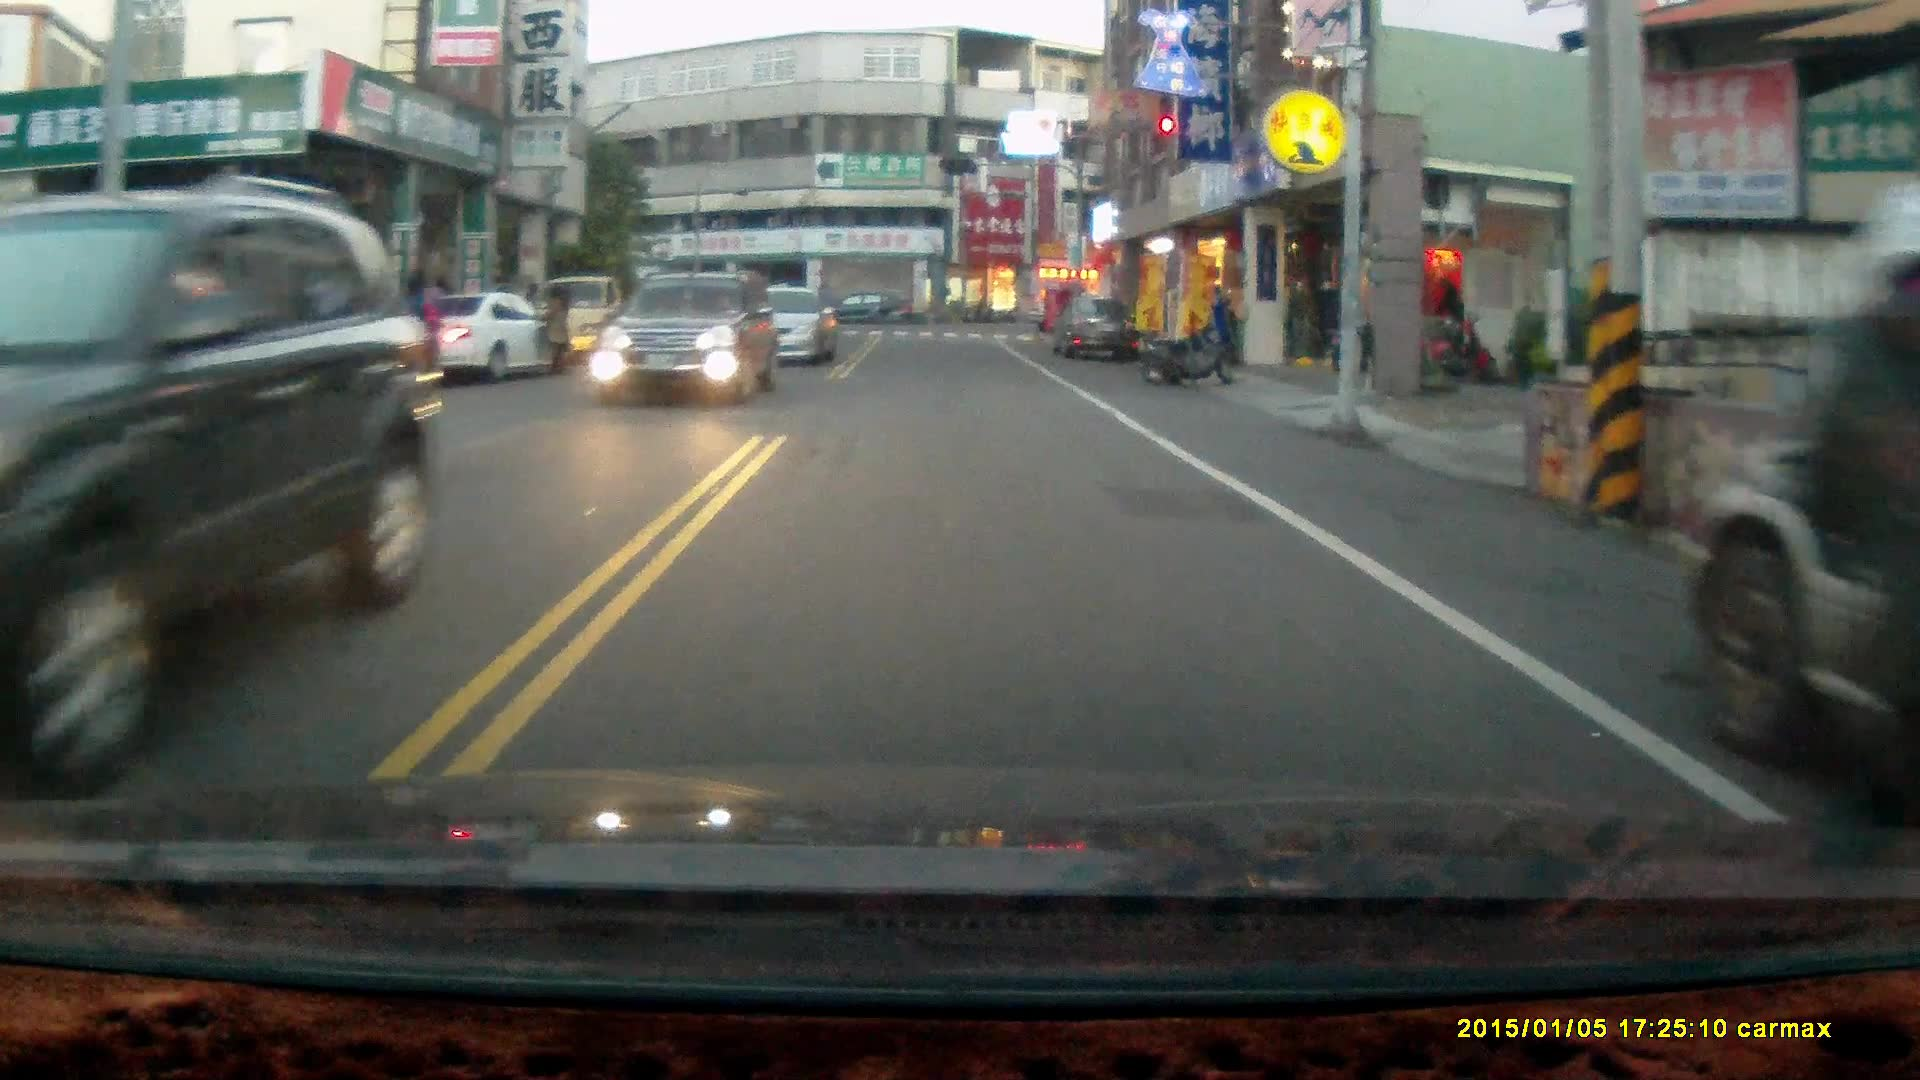pedestrian: (400, 266, 440, 409), (534, 279, 569, 377)
rider: (1750, 179, 1920, 867)
vehicle: (2, 173, 441, 805), (1676, 379, 1920, 783), (602, 266, 780, 407), (388, 288, 573, 386), (718, 282, 842, 365), (1048, 296, 1141, 366), (814, 290, 922, 329)
